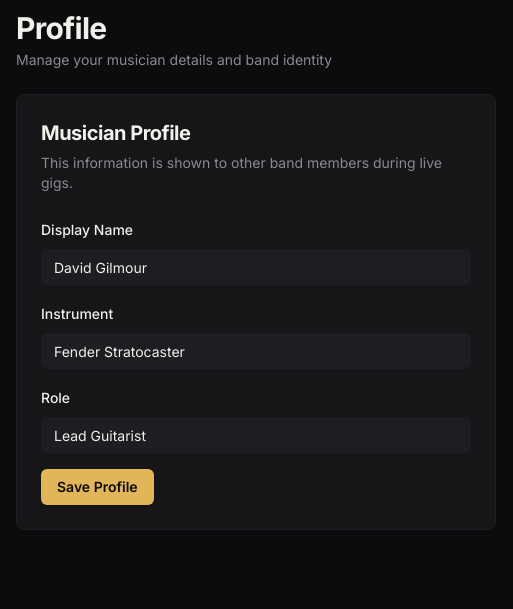
Test: ProfilePage (/profile) › displays error message if saving profile fails
The width and height of the screenshot is (513, 609).
Expected: the field labelled "Display Name" holds "David Gilmour", 41,249 -> 471,285
Click the button "Save Profile".
click(97, 487)  # box 41,469 -> 154,505
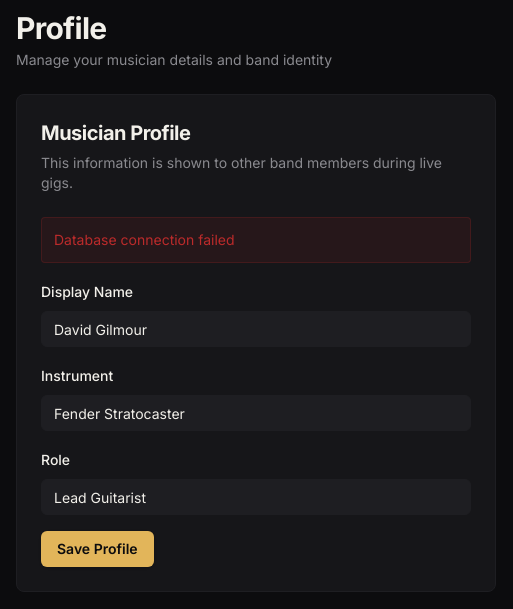
Now the text "Database connection failed" is shown, box 41,217 -> 471,263
